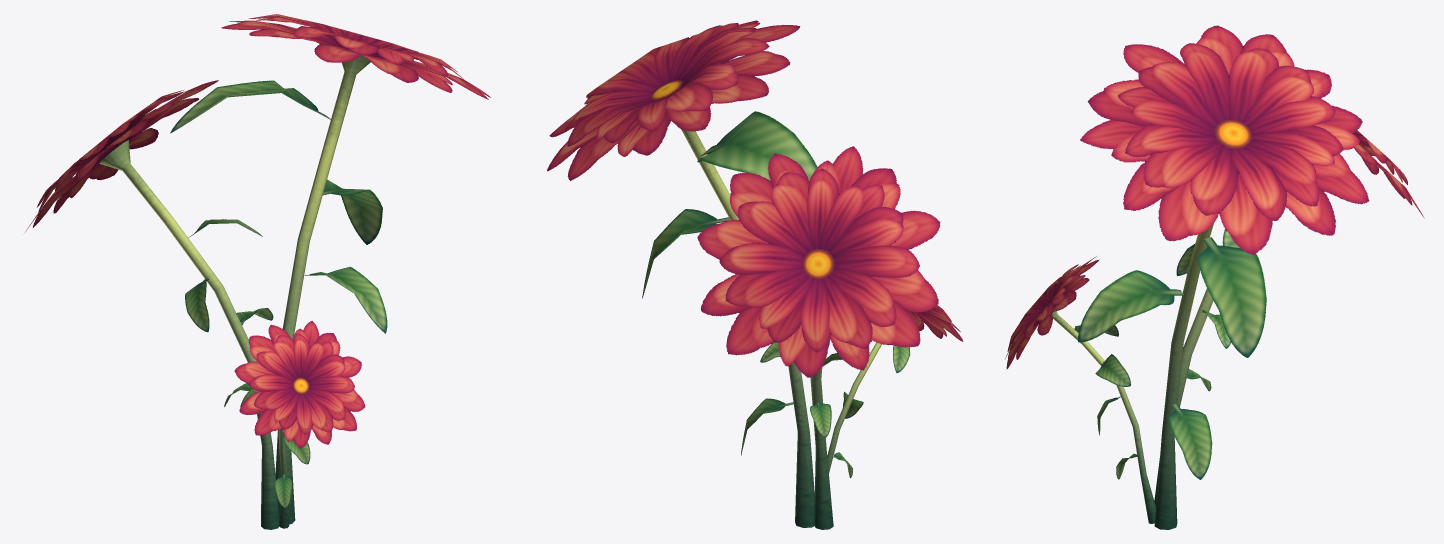
The model's file is VEG0310031.fbx.
The picture shows the model from 3 angles, left to right: view 1: azimuth 30°, elevation 25°; view 2: azimuth 150°, elevation 25°; view 3: azimuth 270°, elevation 25°; orthographic projection. The views are drawn at different scales.
Visible parts, largest first — view 1: smVEG0310031; view 2: smVEG0310031; view 3: smVEG0310031.
Part boxes in pixels (box(x1,y1,x2,y2)): smVEG0310031: box(25, 14, 490, 529); smVEG0310031: box(547, 20, 963, 529); smVEG0310031: box(1005, 25, 1424, 529).
Size of the model in its own units: 38.3 by 41.49 by 32.4.
Materials: 1 (1 with a texture image).
